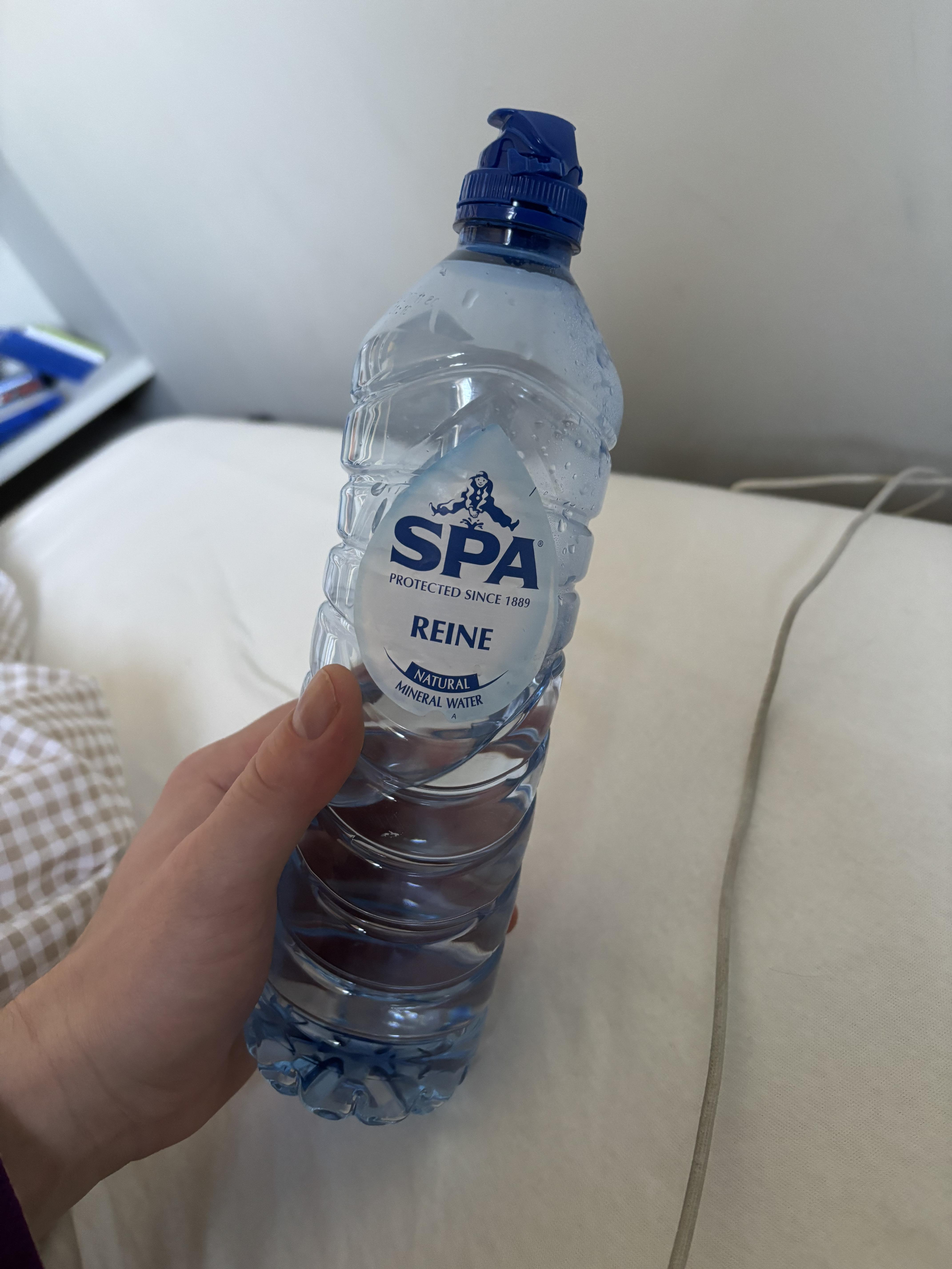Plastic: (238, 102, 617, 1125)
